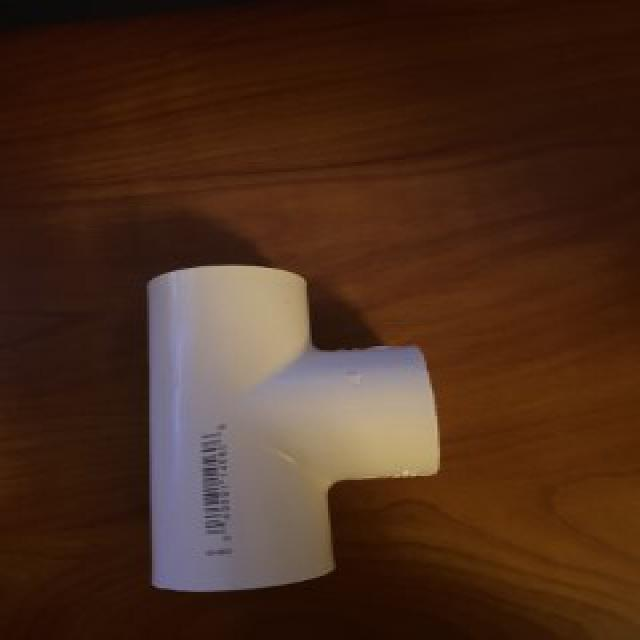T Joint: (144, 265, 441, 596)
